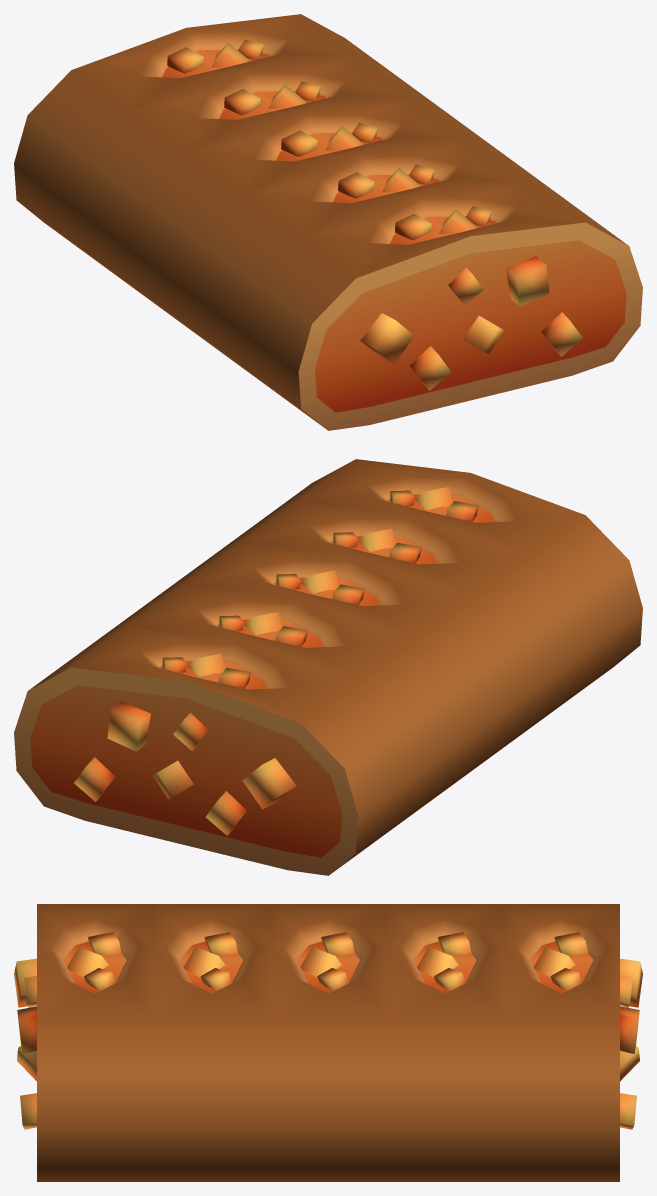
The model's file is m_AppleStrudel01.fbx.
The picture shows the model from 3 angles, top to bottom: view 1: azimuth 30°, elevation 25°; view 2: azimuth 150°, elevation 25°; view 3: azimuth 270°, elevation 25°; orthographic projection. The views are drawn at different scales.
Visible parts, largest first — view 1: m_AppleStrudel01; view 2: m_AppleStrudel01; view 3: m_AppleStrudel01.
Part boxes in pixels (left/top/right/bottom): m_AppleStrudel01: left=14, top=14, right=642, bottom=430; m_AppleStrudel01: left=14, top=459, right=642, bottom=875; m_AppleStrudel01: left=14, top=904, right=642, bottom=1181.
Size of the model in its own units: 13.97 by 6.39 by 21.57.
